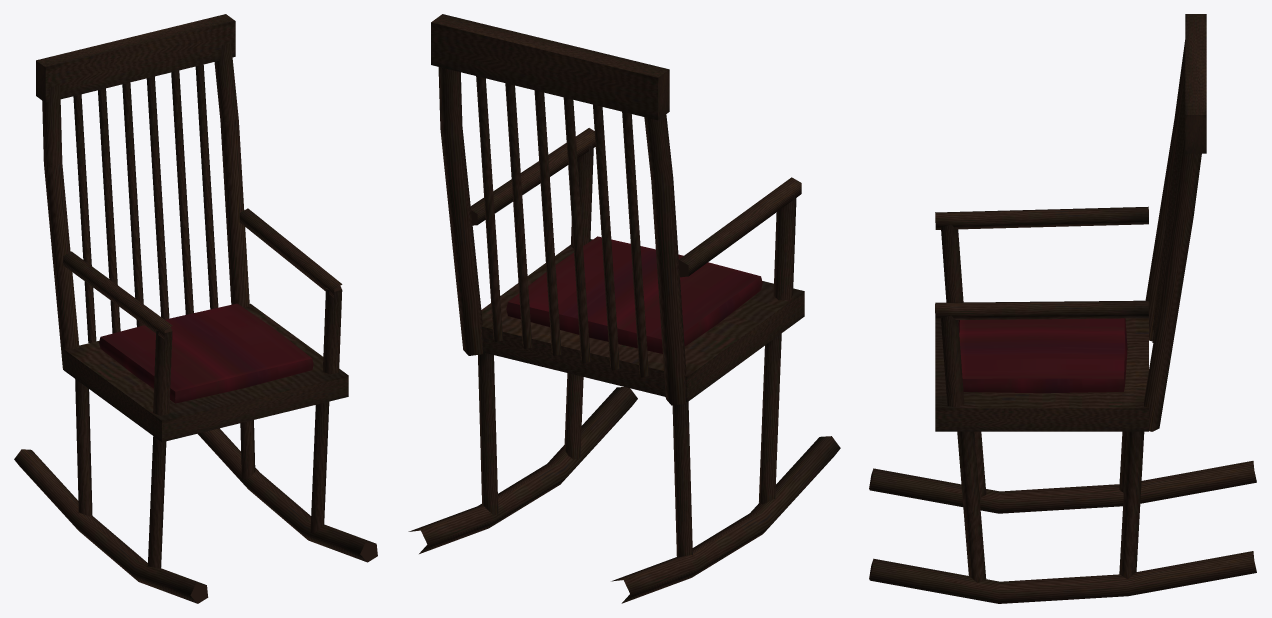
Rendered from rocking_chair.glb.
3 renders of one model, left to right at view 1: azimuth 30°, elevation 25°; view 2: azimuth 150°, elevation 25°; view 3: azimuth 270°, elevation 25°, orthographic. The views are drawn at different scales.
Visible parts, largest first — view 1: rocking_chair; view 2: rocking_chair; view 3: rocking_chair.
Part boxes in pixels (left/top/right/bottom): rocking_chair: left=14, top=14, right=377, bottom=603; rocking_chair: left=408, top=14, right=840, bottom=603; rocking_chair: left=869, top=14, right=1256, bottom=603.
Bounding box in the file's own units: 0.5676 × 1.28 × 0.9104.
2 materials, 2 textured.
